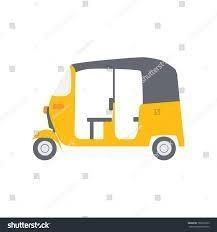keke: (33, 59, 187, 172)
